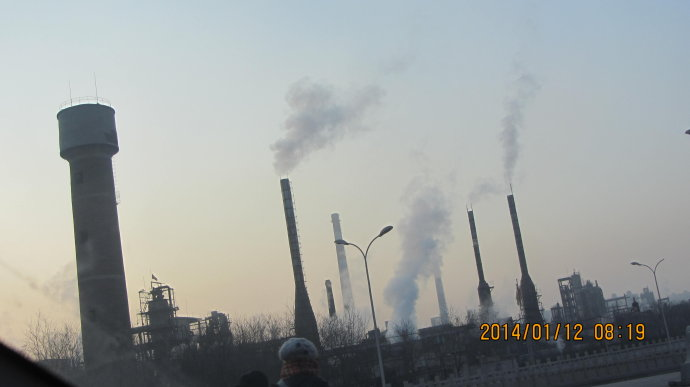dust: (380, 197, 456, 335), (269, 83, 365, 181), (486, 99, 551, 196)
